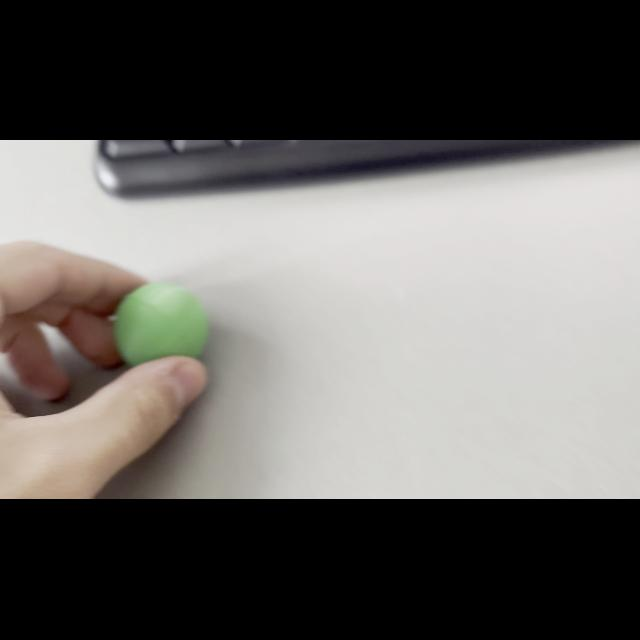objects: (106, 274, 212, 368)
